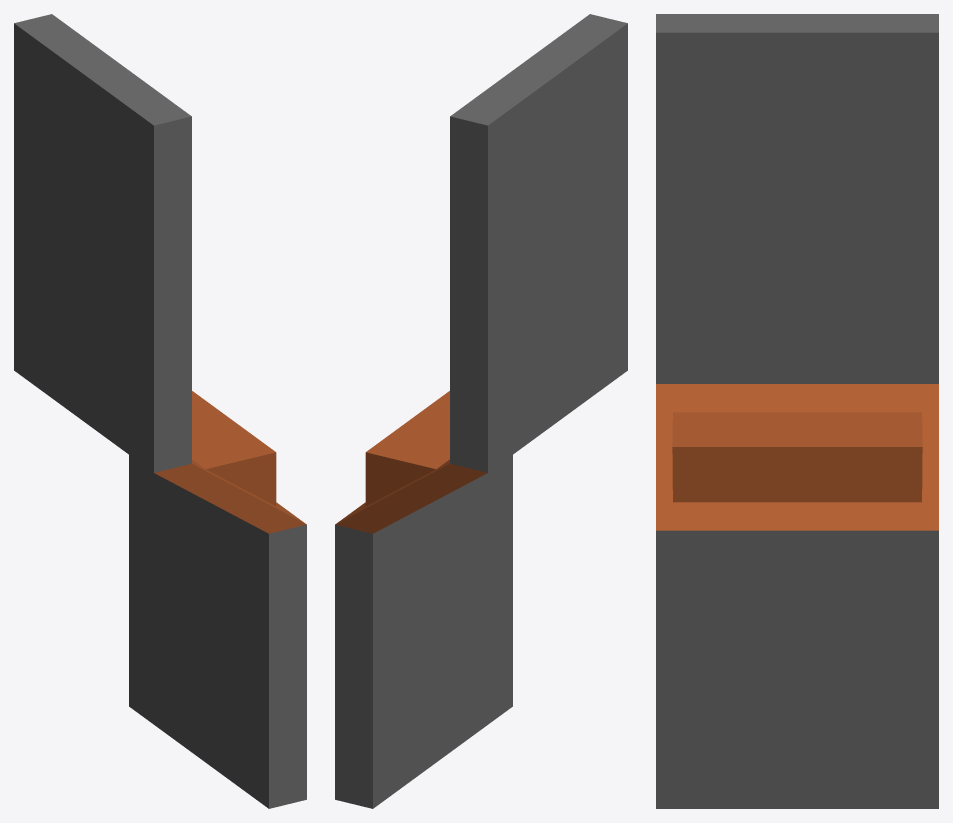
File: expositor3.fbx
3 renders of one model, left to right at view 1: azimuth 30°, elevation 25°; view 2: azimuth 150°, elevation 25°; view 3: azimuth 270°, elevation 25°, orthographic.
Parts seen in each view (by area): view 1: Cube.017; view 2: Cube.017; view 3: Cube.017.
Boxes of the visible parts, x1,y1,x2,y2 form: Cube.017: (14, 14, 306, 808); Cube.017: (335, 14, 627, 808); Cube.017: (656, 14, 938, 808).
Size of the model in its own units: 145 by 642 by 229.
